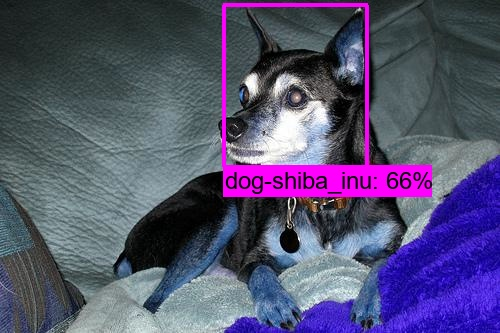dog-miniature_pinscher: (217, 6, 364, 163)
